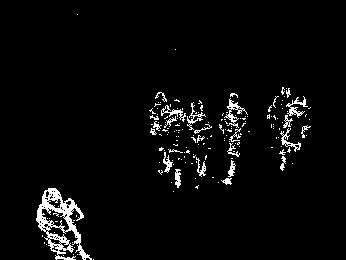person: (35, 188, 92, 259), (217, 93, 248, 186), (282, 94, 312, 170), (187, 100, 212, 178), (167, 98, 186, 189), (149, 90, 167, 174), (268, 85, 287, 141)
